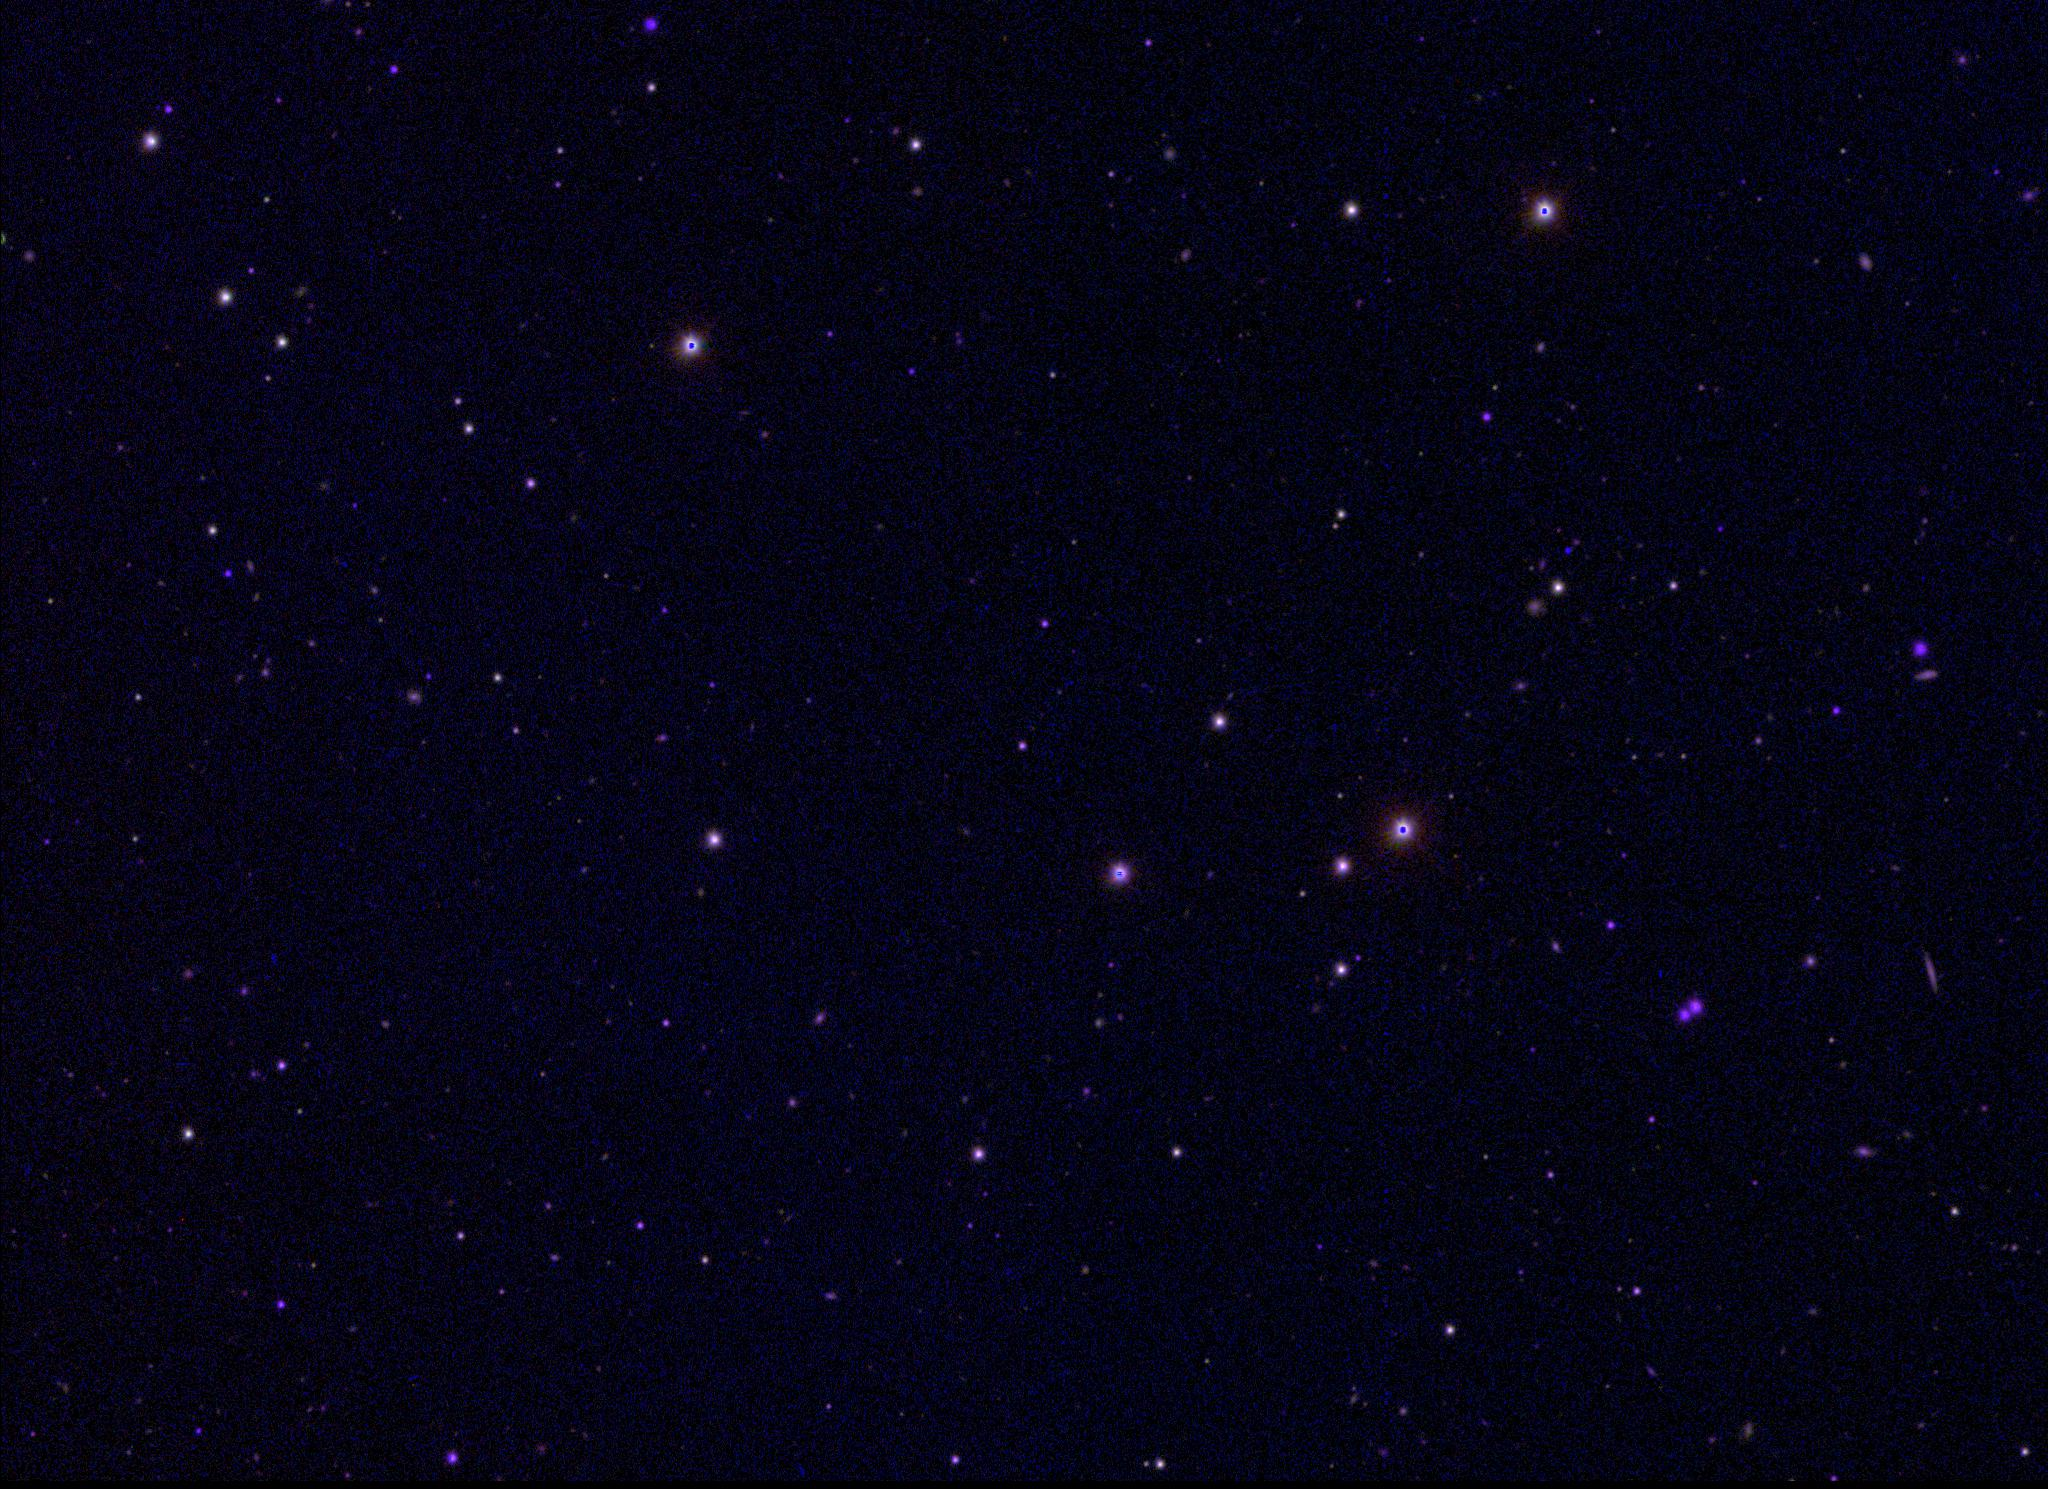L: (1561, 542, 1576, 557)
